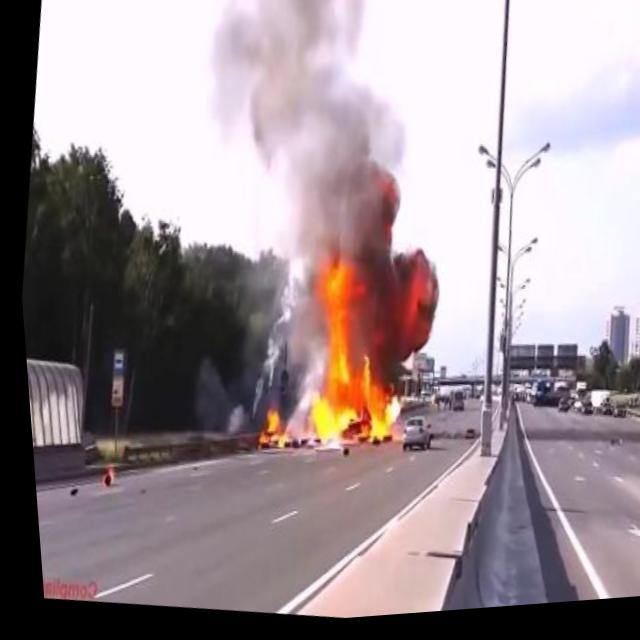fire: (230, 156, 455, 476)
